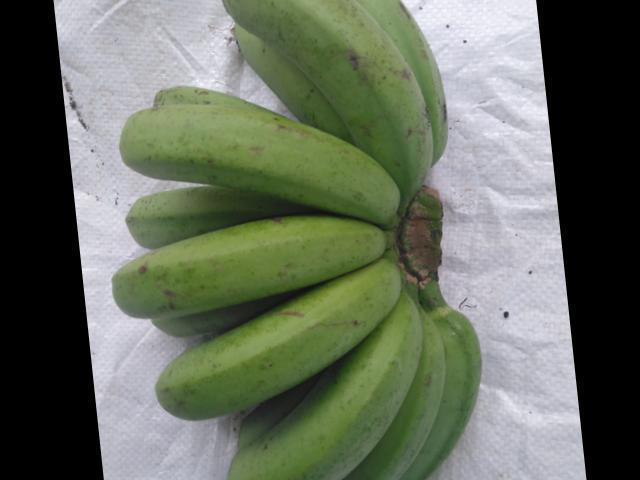unripe: (136, 266, 393, 442), (218, 3, 434, 201), (104, 101, 437, 225), (95, 213, 389, 319), (247, 332, 440, 479)
